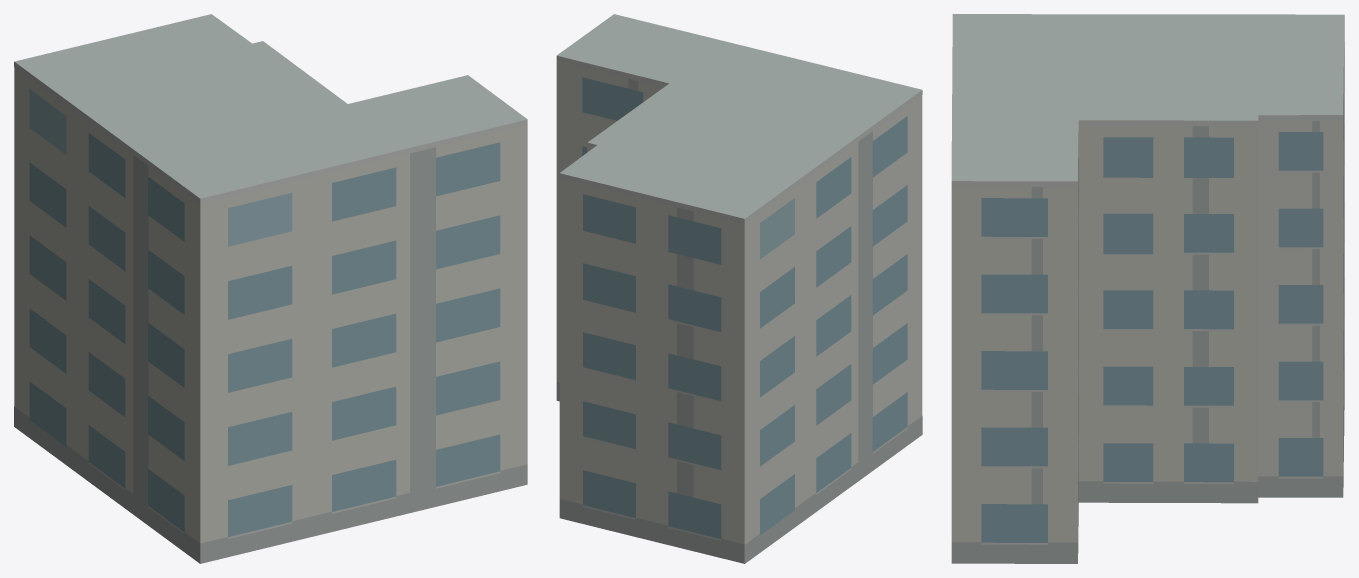
File: survey-upis-32874014.glb
3 views of the same model, side by side, from view 1: azimuth 30°, elevation 25°; view 2: azimuth 150°, elevation 25°; view 3: azimuth 270°, elevation 25° (orthographic). The views are drawn at different scales.
Parts seen in each view (by area): view 1: survey-upis-32874014.tmp; view 2: survey-upis-32874014.tmp; view 3: survey-upis-32874014.tmp.
Boxes of the visible parts, x1=… form: survey-upis-32874014.tmp: x1=14, y1=14, x2=527, y2=563; survey-upis-32874014.tmp: x1=556, y1=14, x2=922, y2=563; survey-upis-32874014.tmp: x1=951, y1=14, x2=1344, y2=563.
Bounding box in the file's own units: 15.03 × 16 × 14.92.
